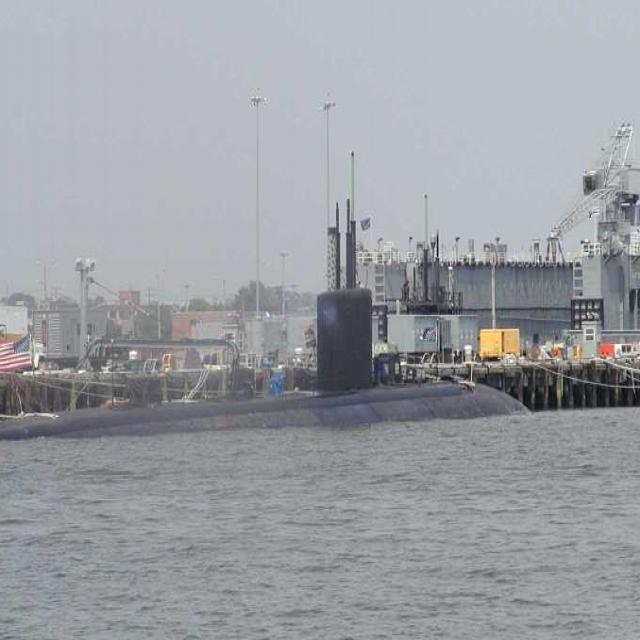submarine: (1, 144, 540, 450)
